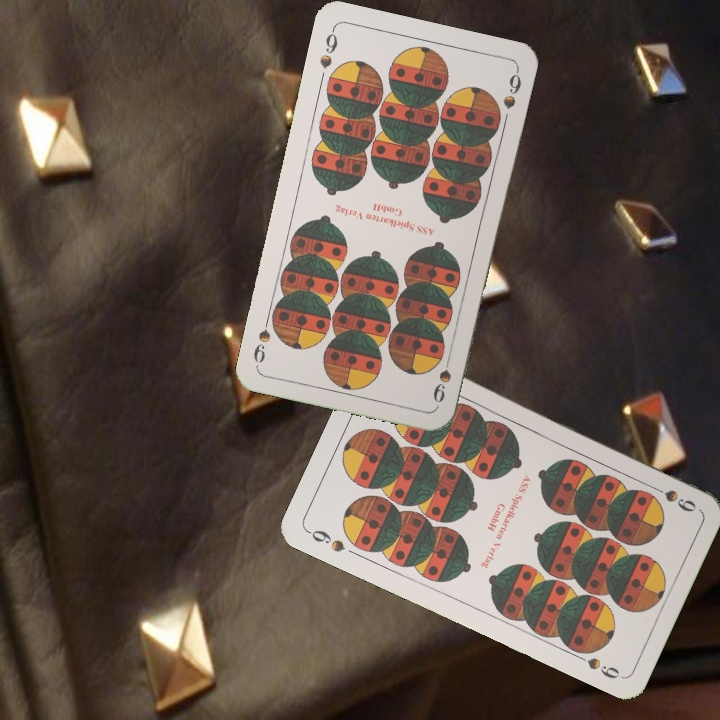S9: (644, 480, 699, 515), (429, 348, 454, 406), (303, 525, 348, 555), (315, 25, 340, 71)
